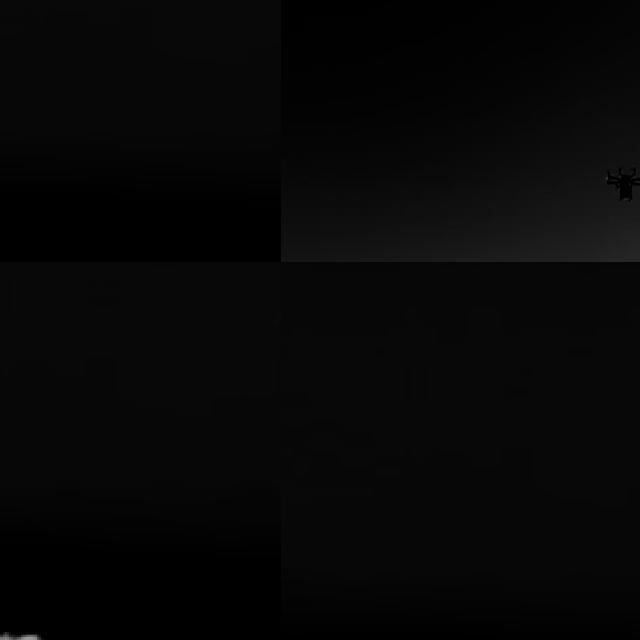0: (268, 312, 281, 339)
drone: (600, 158, 640, 211)
